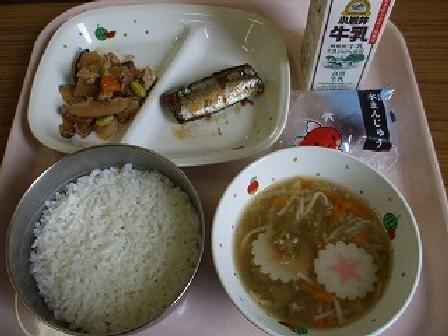Fish: (162, 42, 275, 138)
Milk: (301, 0, 402, 98)
Rice: (9, 151, 199, 326)
cooked food meat with vegetables: (45, 40, 156, 142)
vegetable soup: (229, 155, 411, 327)
